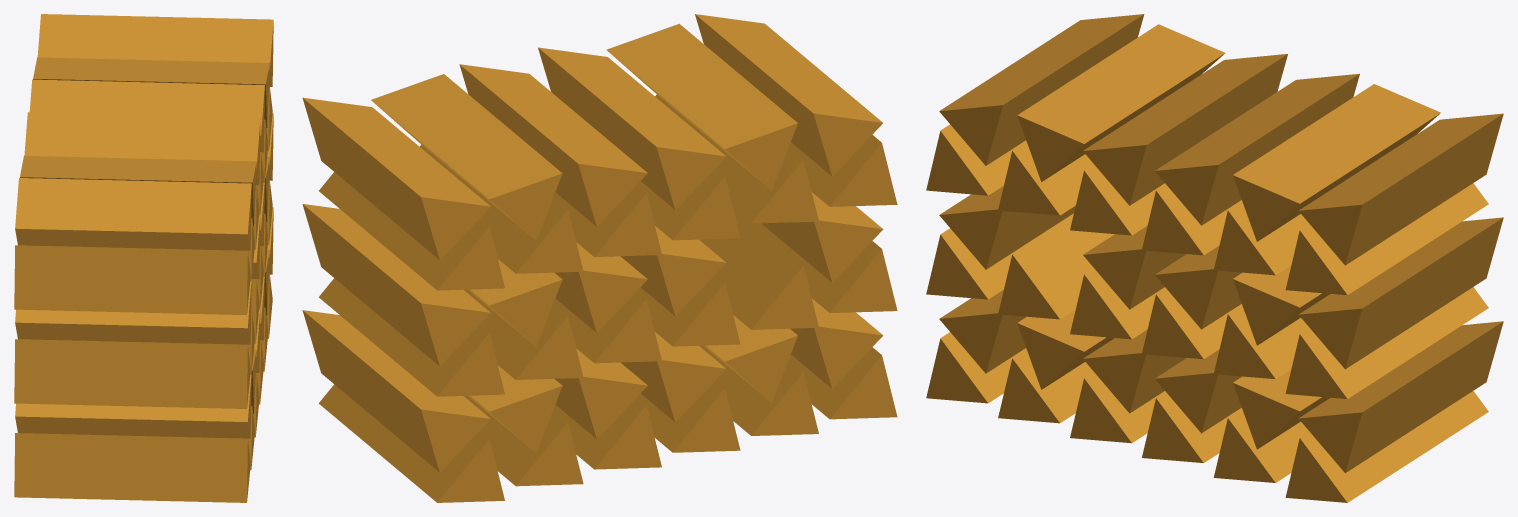
File: FUEL WOOD.fbx
3 views of the same model, side by side, from view 1: azimuth 30°, elevation 25°; view 2: azimuth 150°, elevation 25°; view 3: azimuth 270°, elevation 25° (orthographic). The views are drawn at different scales.
Visible parts, largest first — view 1: FUEL_WOOD; view 2: FUEL_WOOD; view 3: FUEL_WOOD.
Boxes of the visible parts, left/top/right/bottom form: FUEL_WOOD: left=14, top=14, right=273, bottom=502; FUEL_WOOD: left=302, top=14, right=897, bottom=502; FUEL_WOOD: left=926, top=14, right=1503, bottom=502.
Size of the model in its own units: 105 by 72.38 by 120.
1 material, 1 textured.
